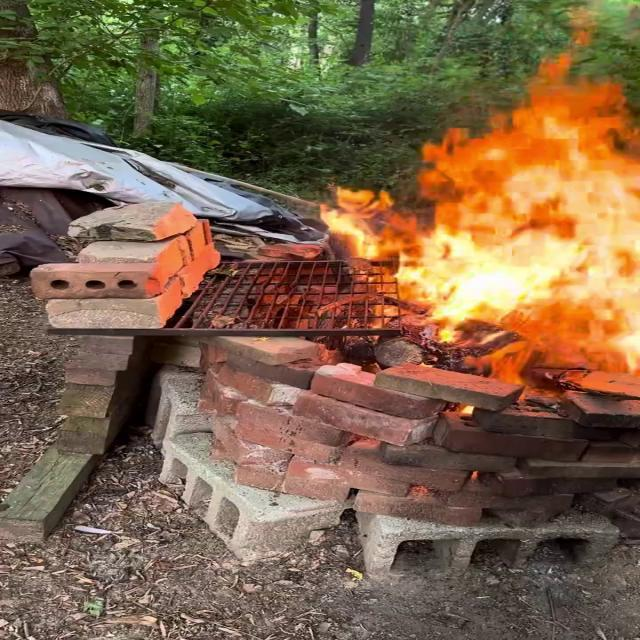Fire: (322, 36, 638, 351)
